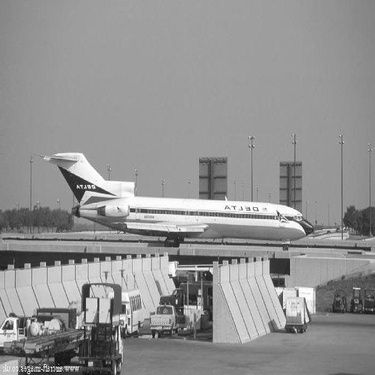airplane: (31, 138, 321, 252)
